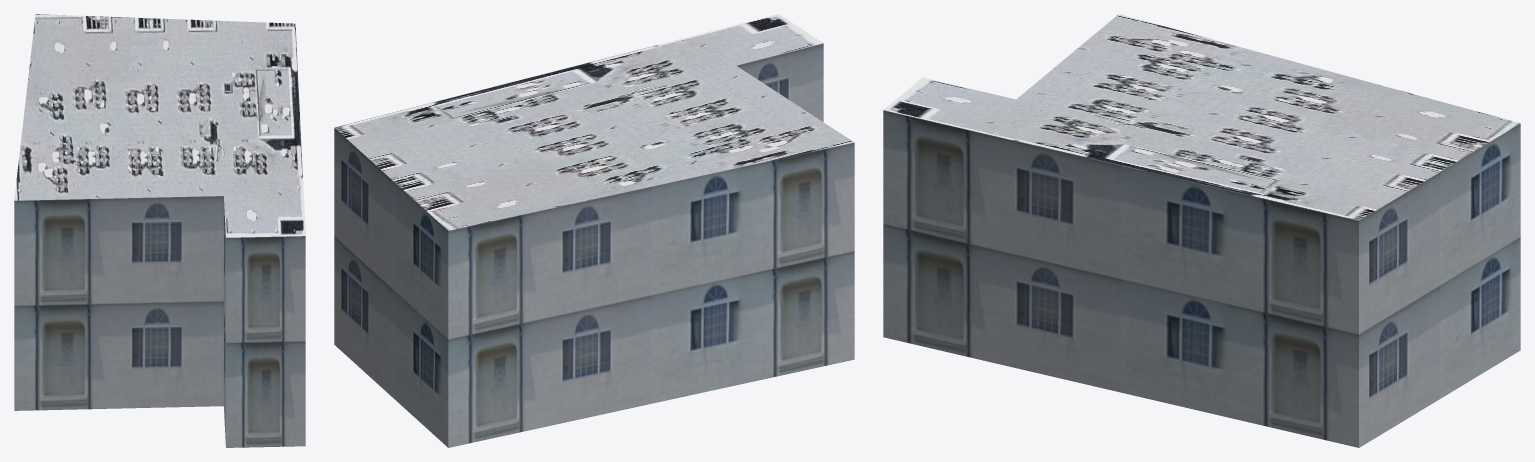
The model's file is ResTex__364.fbx.
The picture shows the model from 3 angles, left to right: view 1: azimuth 30°, elevation 25°; view 2: azimuth 150°, elevation 25°; view 3: azimuth 270°, elevation 25°; orthographic projection. The views are drawn at different scales.
Visible parts, largest first — view 1: CityEngineMaterial_17_m, CityEngineMaterial_8_m; view 2: CityEngineMaterial_17_m, CityEngineMaterial_8_m; view 3: CityEngineMaterial_17_m, CityEngineMaterial_8_m.
Boxes of the visible parts, box(x1,y1,x2,y2) form: CityEngineMaterial_17_m: box(14, 196, 305, 447); CityEngineMaterial_8_m: box(14, 14, 305, 237); CityEngineMaterial_17_m: box(334, 43, 854, 447); CityEngineMaterial_8_m: box(334, 14, 854, 230); CityEngineMaterial_17_m: box(883, 110, 1520, 447); CityEngineMaterial_8_m: box(883, 14, 1520, 220).
Size of the model in its own units: 11.73 by 6 by 15.27.
2 materials, 2 textured.
